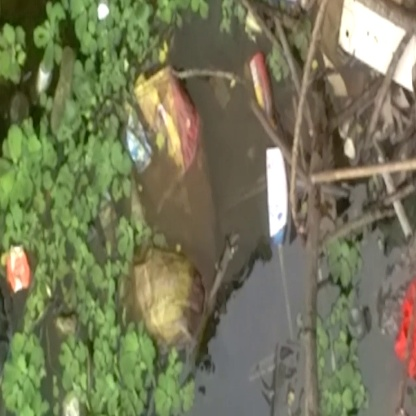plastic-bag: (143, 71, 220, 195), (133, 245, 201, 344)
